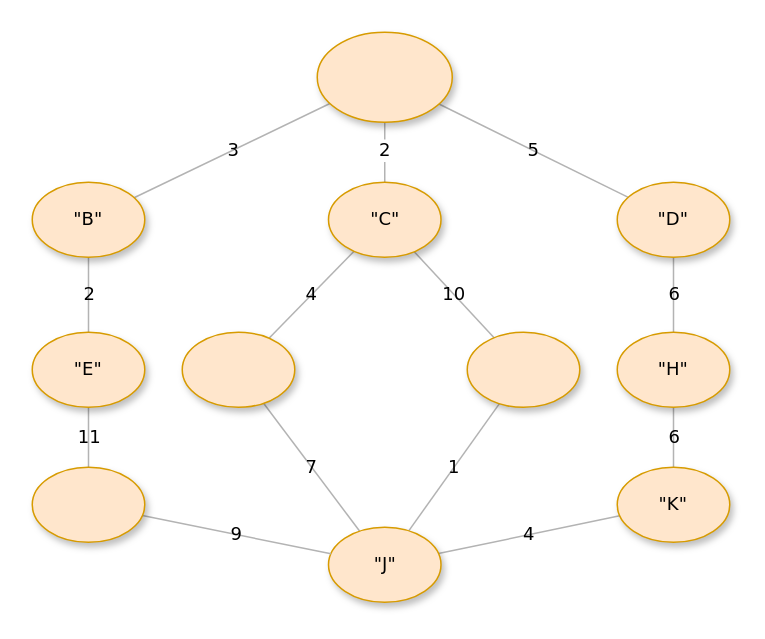
This 765x639 diagram has some shape labels left out. The shapes that lost their labels are listed below. From the top down, each one's centre as x and y in pixels, then its label:
point (385, 79): "A"
point (239, 371): "F"
point (524, 371): "G"
point (89, 506): "I"
